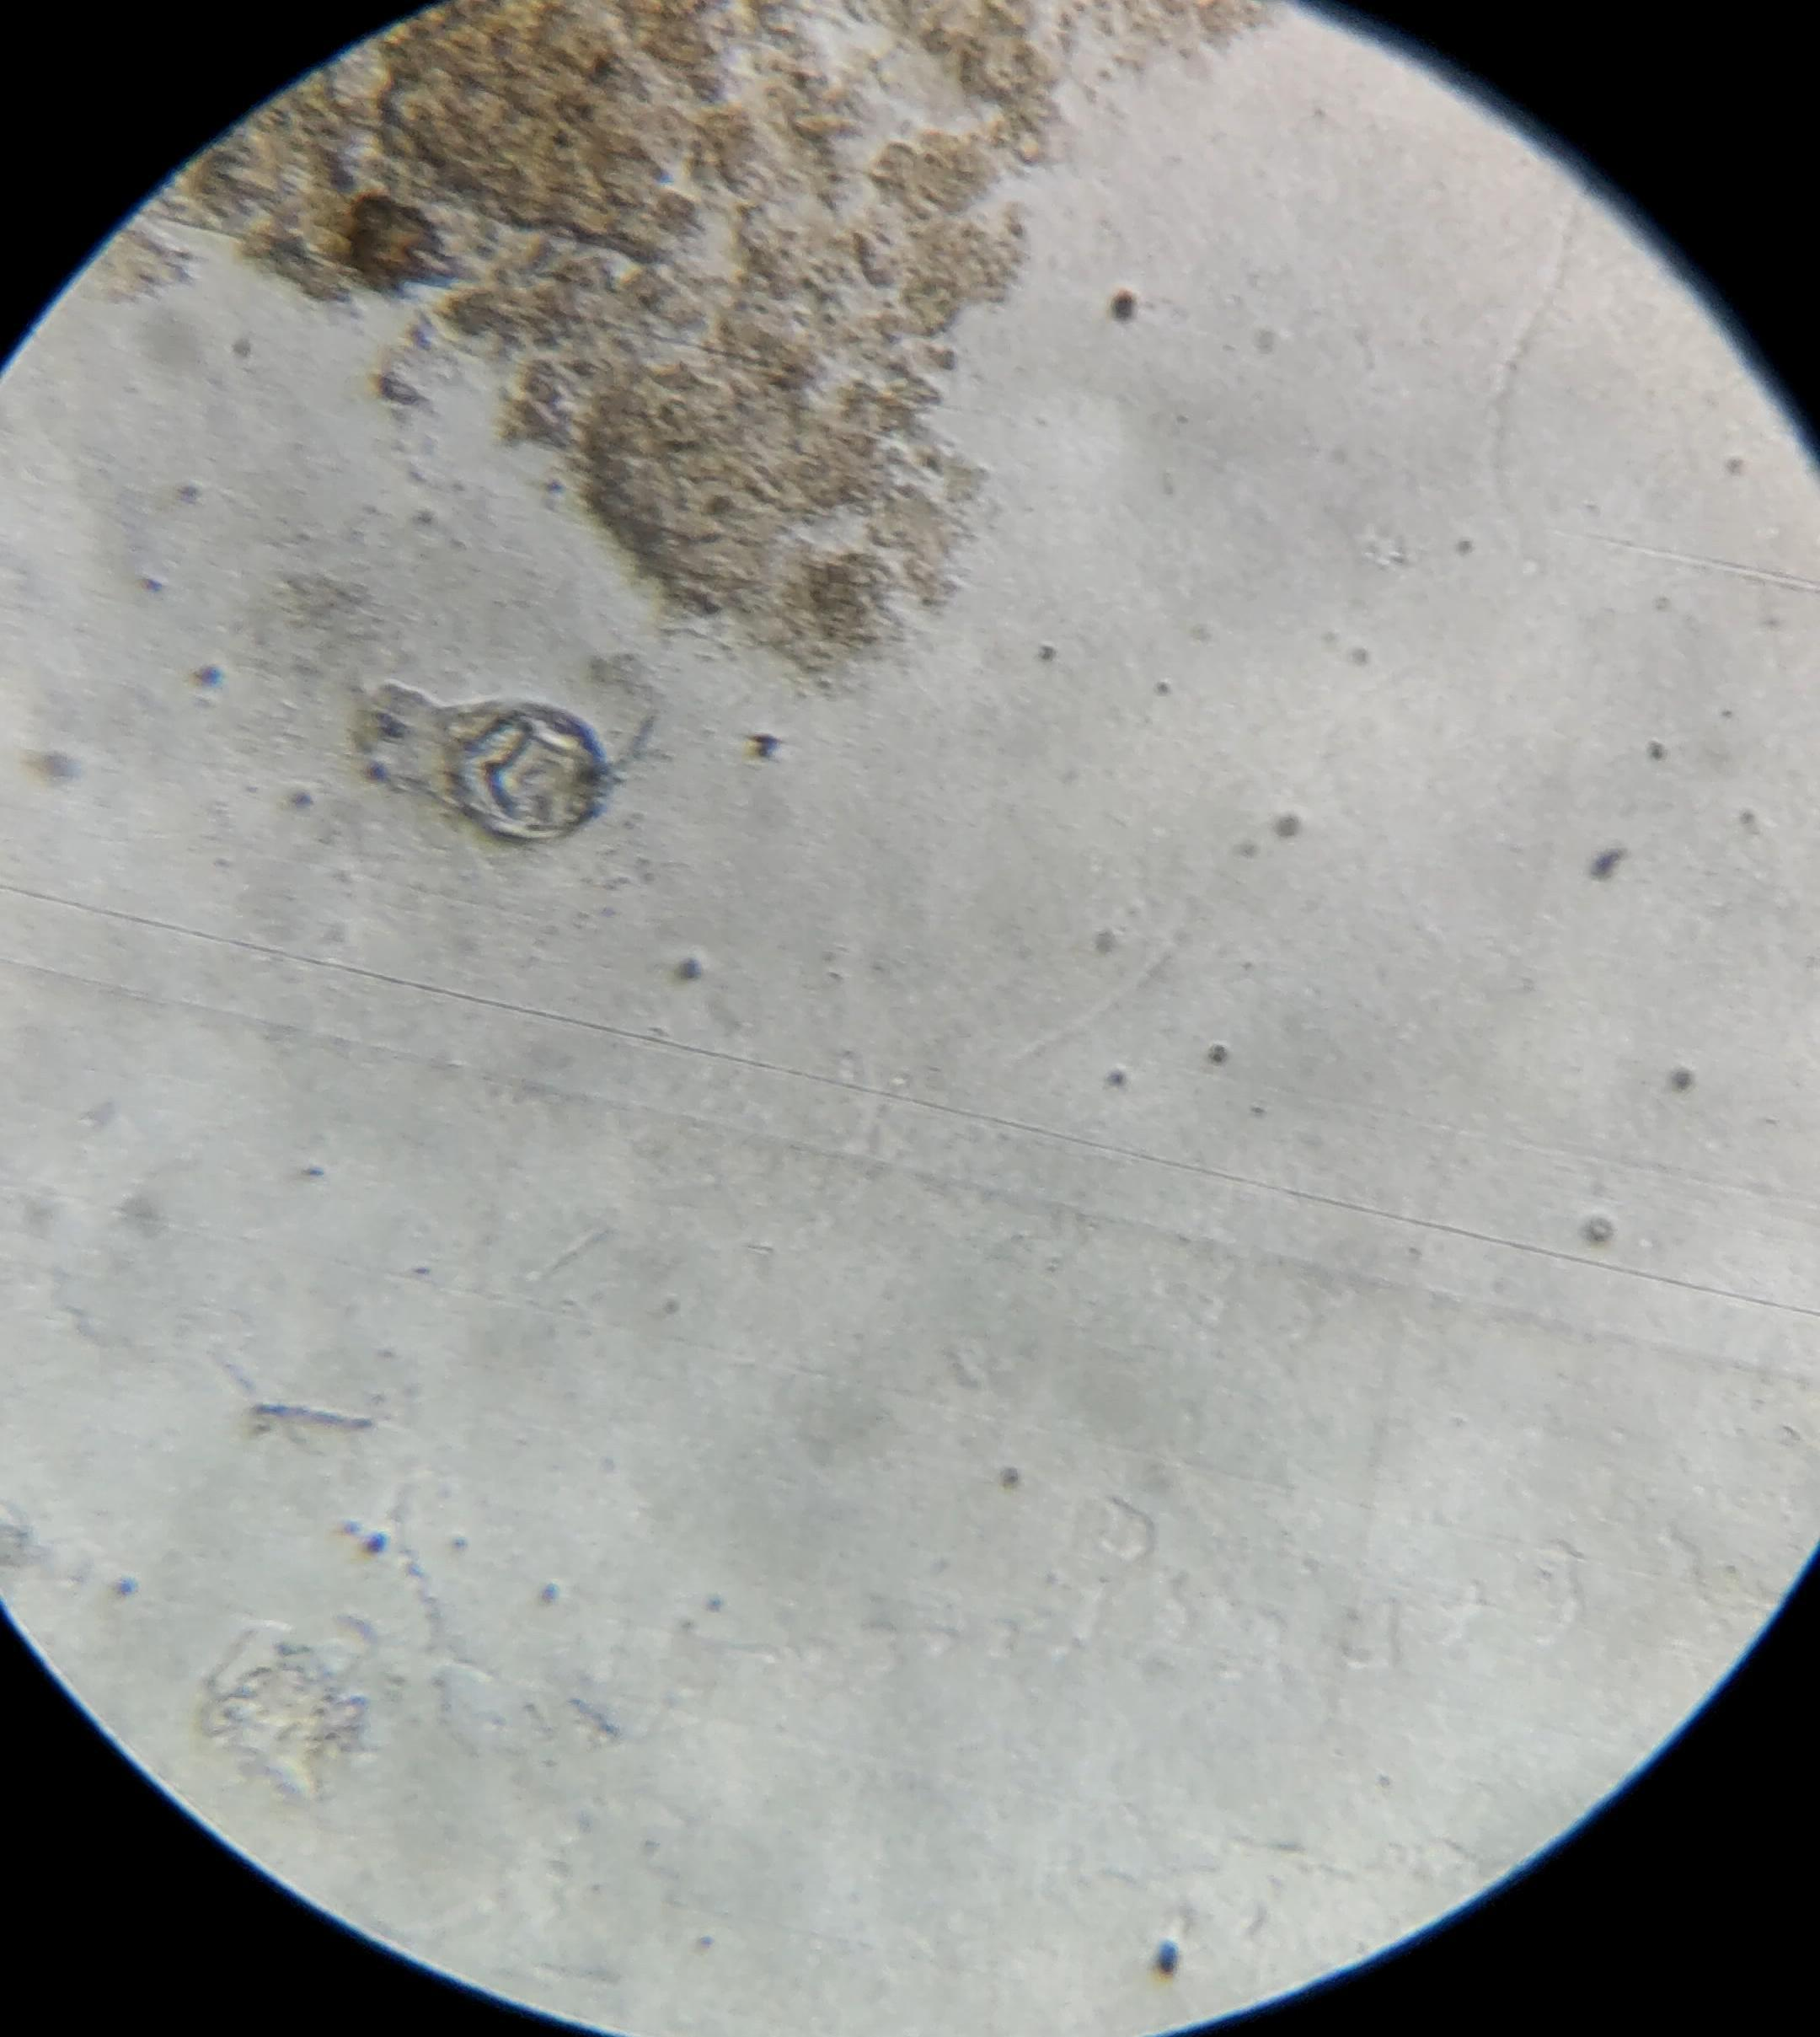Mo: (367, 680, 671, 845)
